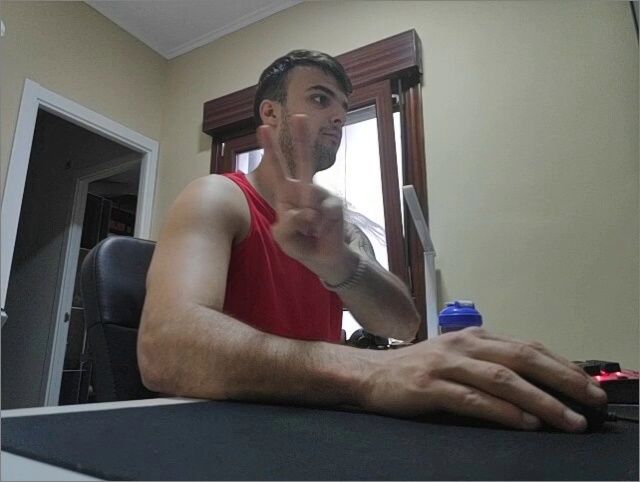Peace: (256, 112, 346, 266)
